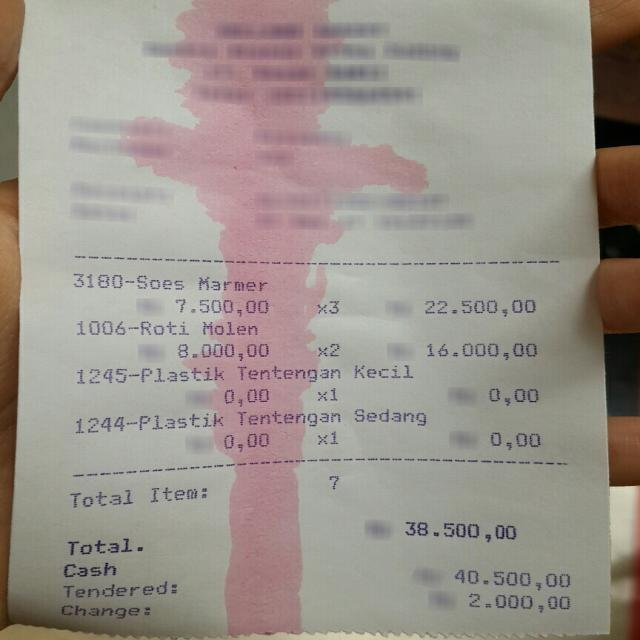kertas: (9, 0, 609, 635)
